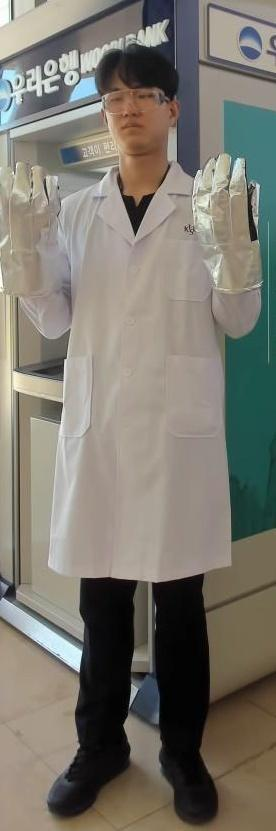lab_coat: (45, 169, 197, 582)
